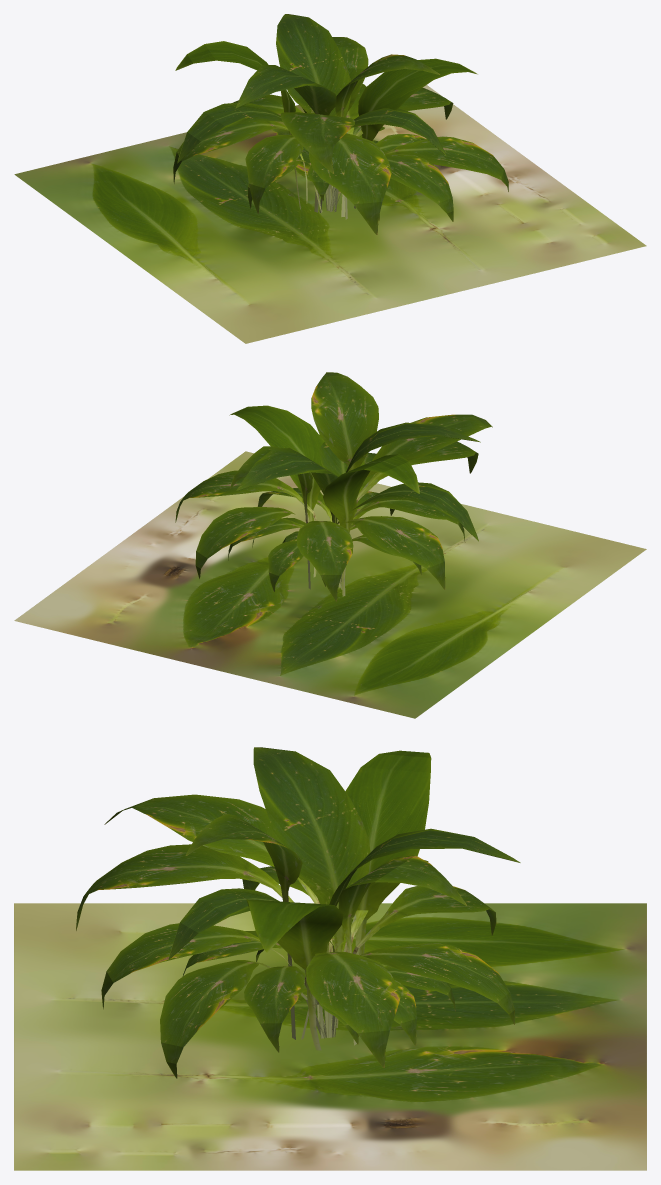
Rendered from test-plant-v2.gltf.
3 views of the same model, one above another, from view 1: azimuth 30°, elevation 25°; view 2: azimuth 150°, elevation 25°; view 3: azimuth 270°, elevation 25° (orthographic). The views are drawn at different scales.
Parts seen in each view (by area): view 1: Ground, Leaf.024, Leaf.020, Leaf.023, Leaf.015, Leaf, Leaf.002, Leaf.019, Leaf.007, Leaf.021, Leaf.013, Leaf.012 (+5 smaller); view 2: Ground, Leaf.022, Leaf.012, Leaf.023, Leaf.013, Leaf.014, Leaf.017, Leaf.019, Leaf.024, Leaf.021, Leaf.018, Leaf (+6 smaller); view 3: Ground, Leaf, Leaf.013, Leaf.018, Leaf.020, Leaf.015, Leaf.019, Leaf.023, Leaf.017, Leaf.007, Leaf.025, Leaf.016 (+7 smaller).
Part boxes in pixels (bbox=[...]): Ground: bbox=[14, 85, 646, 343]; Leaf.024: bbox=[276, 14, 350, 197]; Leaf.020: bbox=[309, 133, 391, 234]; Leaf.023: bbox=[354, 58, 477, 208]; Leaf.015: bbox=[334, 136, 508, 212]; Leaf: bbox=[236, 65, 336, 212]; Leaf.002: bbox=[245, 134, 303, 213]; Leaf.019: bbox=[280, 112, 354, 173]; Leaf.007: bbox=[329, 153, 453, 221]; Leaf.021: bbox=[177, 102, 322, 212]; Leaf.013: bbox=[175, 41, 300, 209]; Leaf.012: bbox=[173, 120, 288, 183]; Ground: bbox=[14, 451, 646, 718]; Leaf.022: bbox=[311, 372, 378, 471]; Leaf.012: bbox=[345, 516, 445, 589]; Leaf.023: bbox=[229, 405, 324, 577]; Leaf.013: bbox=[323, 454, 419, 596]; Leaf.014: bbox=[297, 521, 353, 601]; Leaf.017: bbox=[195, 507, 295, 578]; Leaf.019: bbox=[366, 414, 492, 477]; Leaf.024: bbox=[236, 448, 337, 523]; Leaf.021: bbox=[337, 482, 478, 587]; Leaf.018: bbox=[175, 470, 317, 522]; Leaf: bbox=[334, 422, 480, 589]; Ground: bbox=[14, 903, 646, 1170]; Leaf: bbox=[253, 747, 370, 1027]; Leaf.013: bbox=[345, 750, 431, 955]; Leaf.018: bbox=[306, 951, 400, 1067]; Leaf.020: bbox=[76, 844, 293, 930]; Leaf.015: bbox=[160, 960, 325, 1078]; Leaf.019: bbox=[104, 794, 319, 903]; Leaf.023: bbox=[246, 899, 343, 1050]; Leaf.017: bbox=[301, 943, 514, 1039]; Leaf.007: bbox=[101, 923, 325, 1036]; Leaf.025: bbox=[338, 855, 466, 1045]; Leaf.016: bbox=[244, 966, 325, 1052].
Bounding box in the file's own units: 0.7351 × 0.3284 × 0.7351.
Materials: 1 (1 with a texture image).
